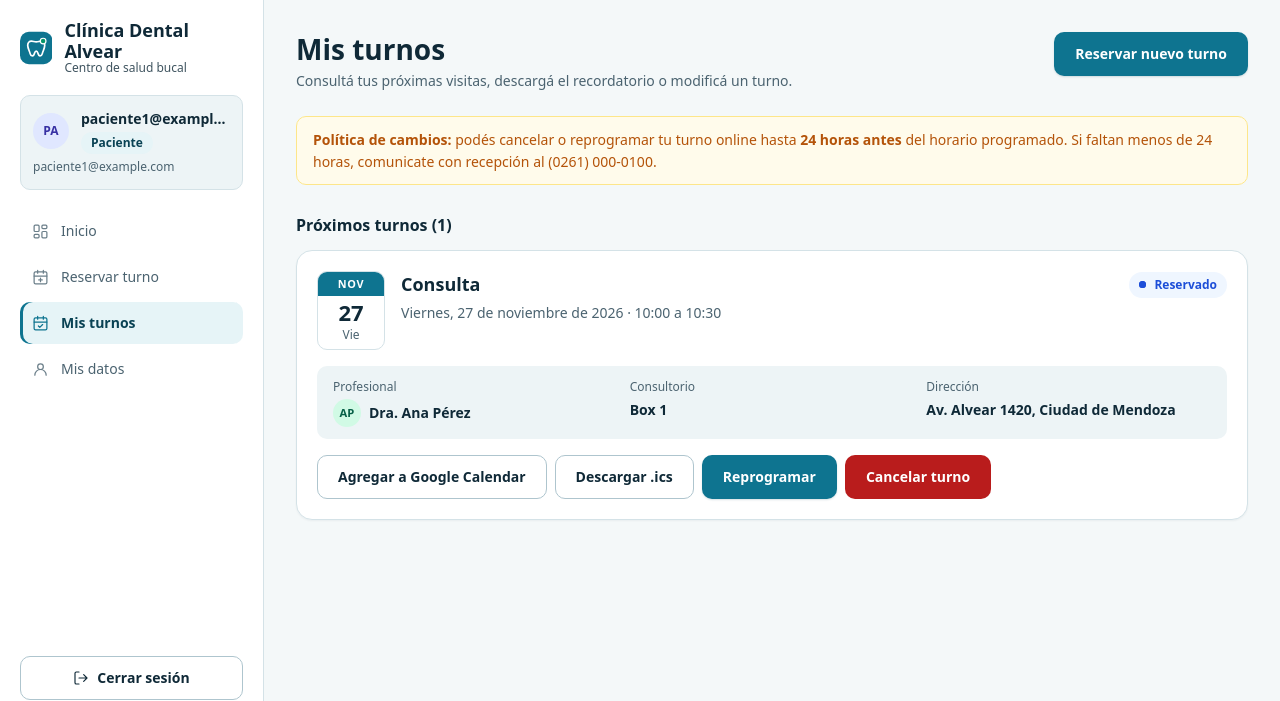
Test: web-paciente (C-14) › cancela un turno dentro del plazo y actualiza su estado a Cancelado
This screenshot has width=1280, height=701.
Click the button "Cancelar turno" at {"x": 918, "y": 477}, box [845, 455, 991, 499]
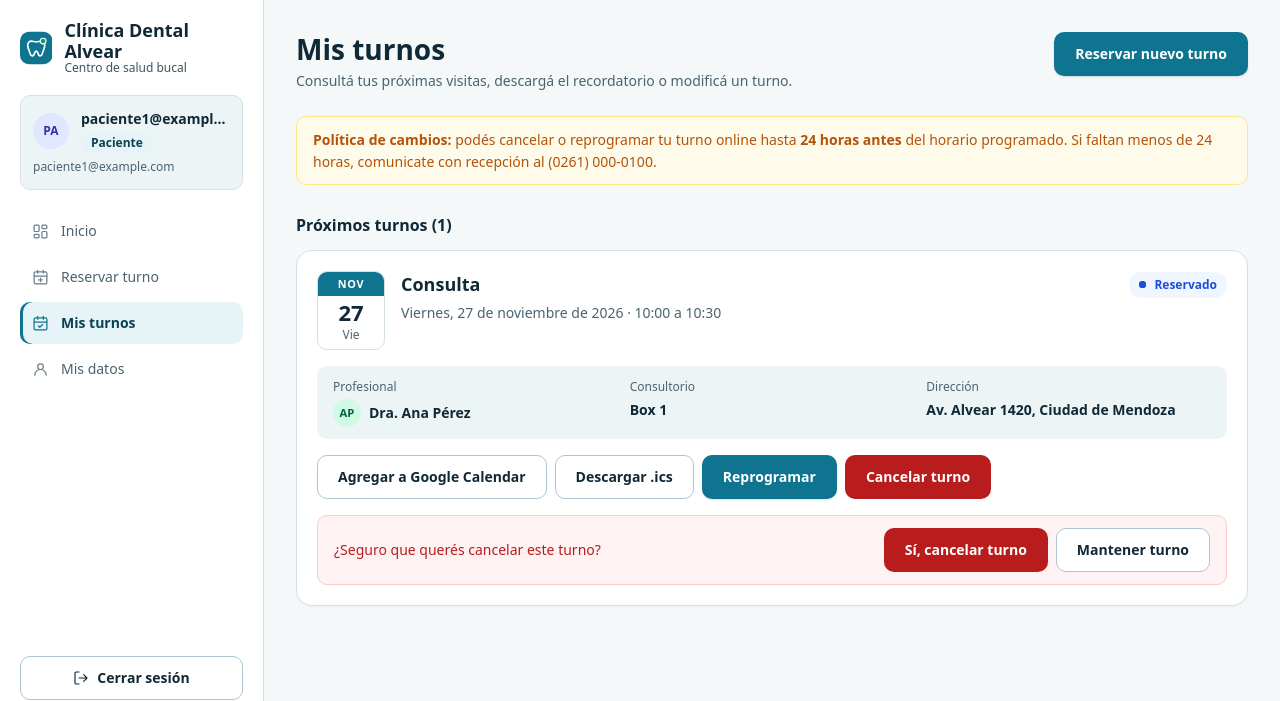
Click the button "Sí, cancelar turno" at {"x": 966, "y": 550}, box [884, 528, 1048, 572]
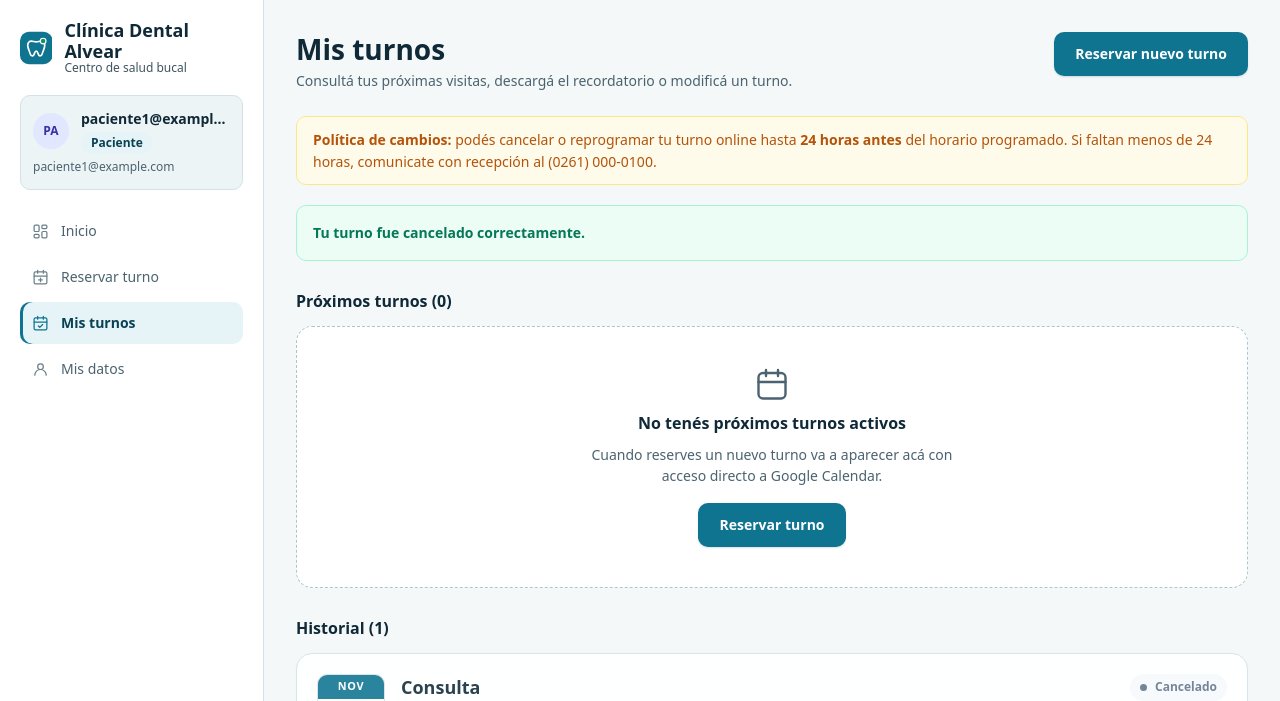
Result: the text "Cancelado" is shown at [1155, 678, 1217, 697]
Result: the button "Cancelar turno" is gone
